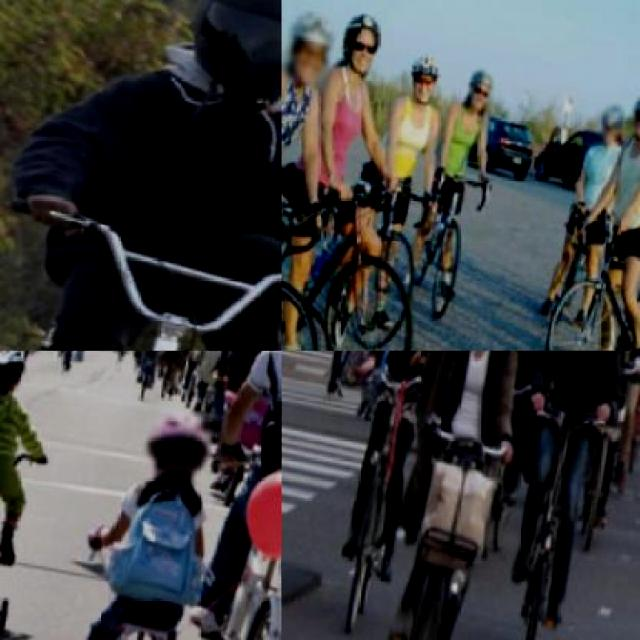With Helmet: (180, 0, 280, 106), (142, 397, 225, 485), (282, 4, 343, 90), (334, 0, 391, 78), (460, 49, 508, 113), (404, 41, 448, 102), (0, 350, 37, 404), (598, 89, 632, 140), (626, 74, 639, 134)
